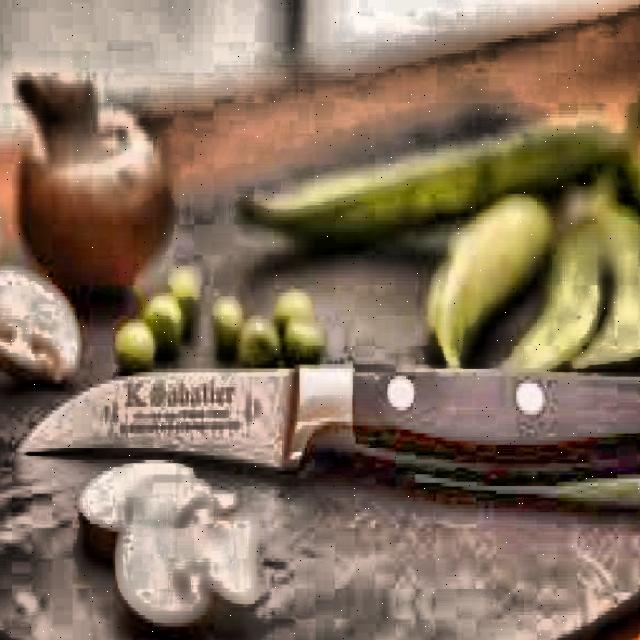knife: (17, 359, 640, 493)
